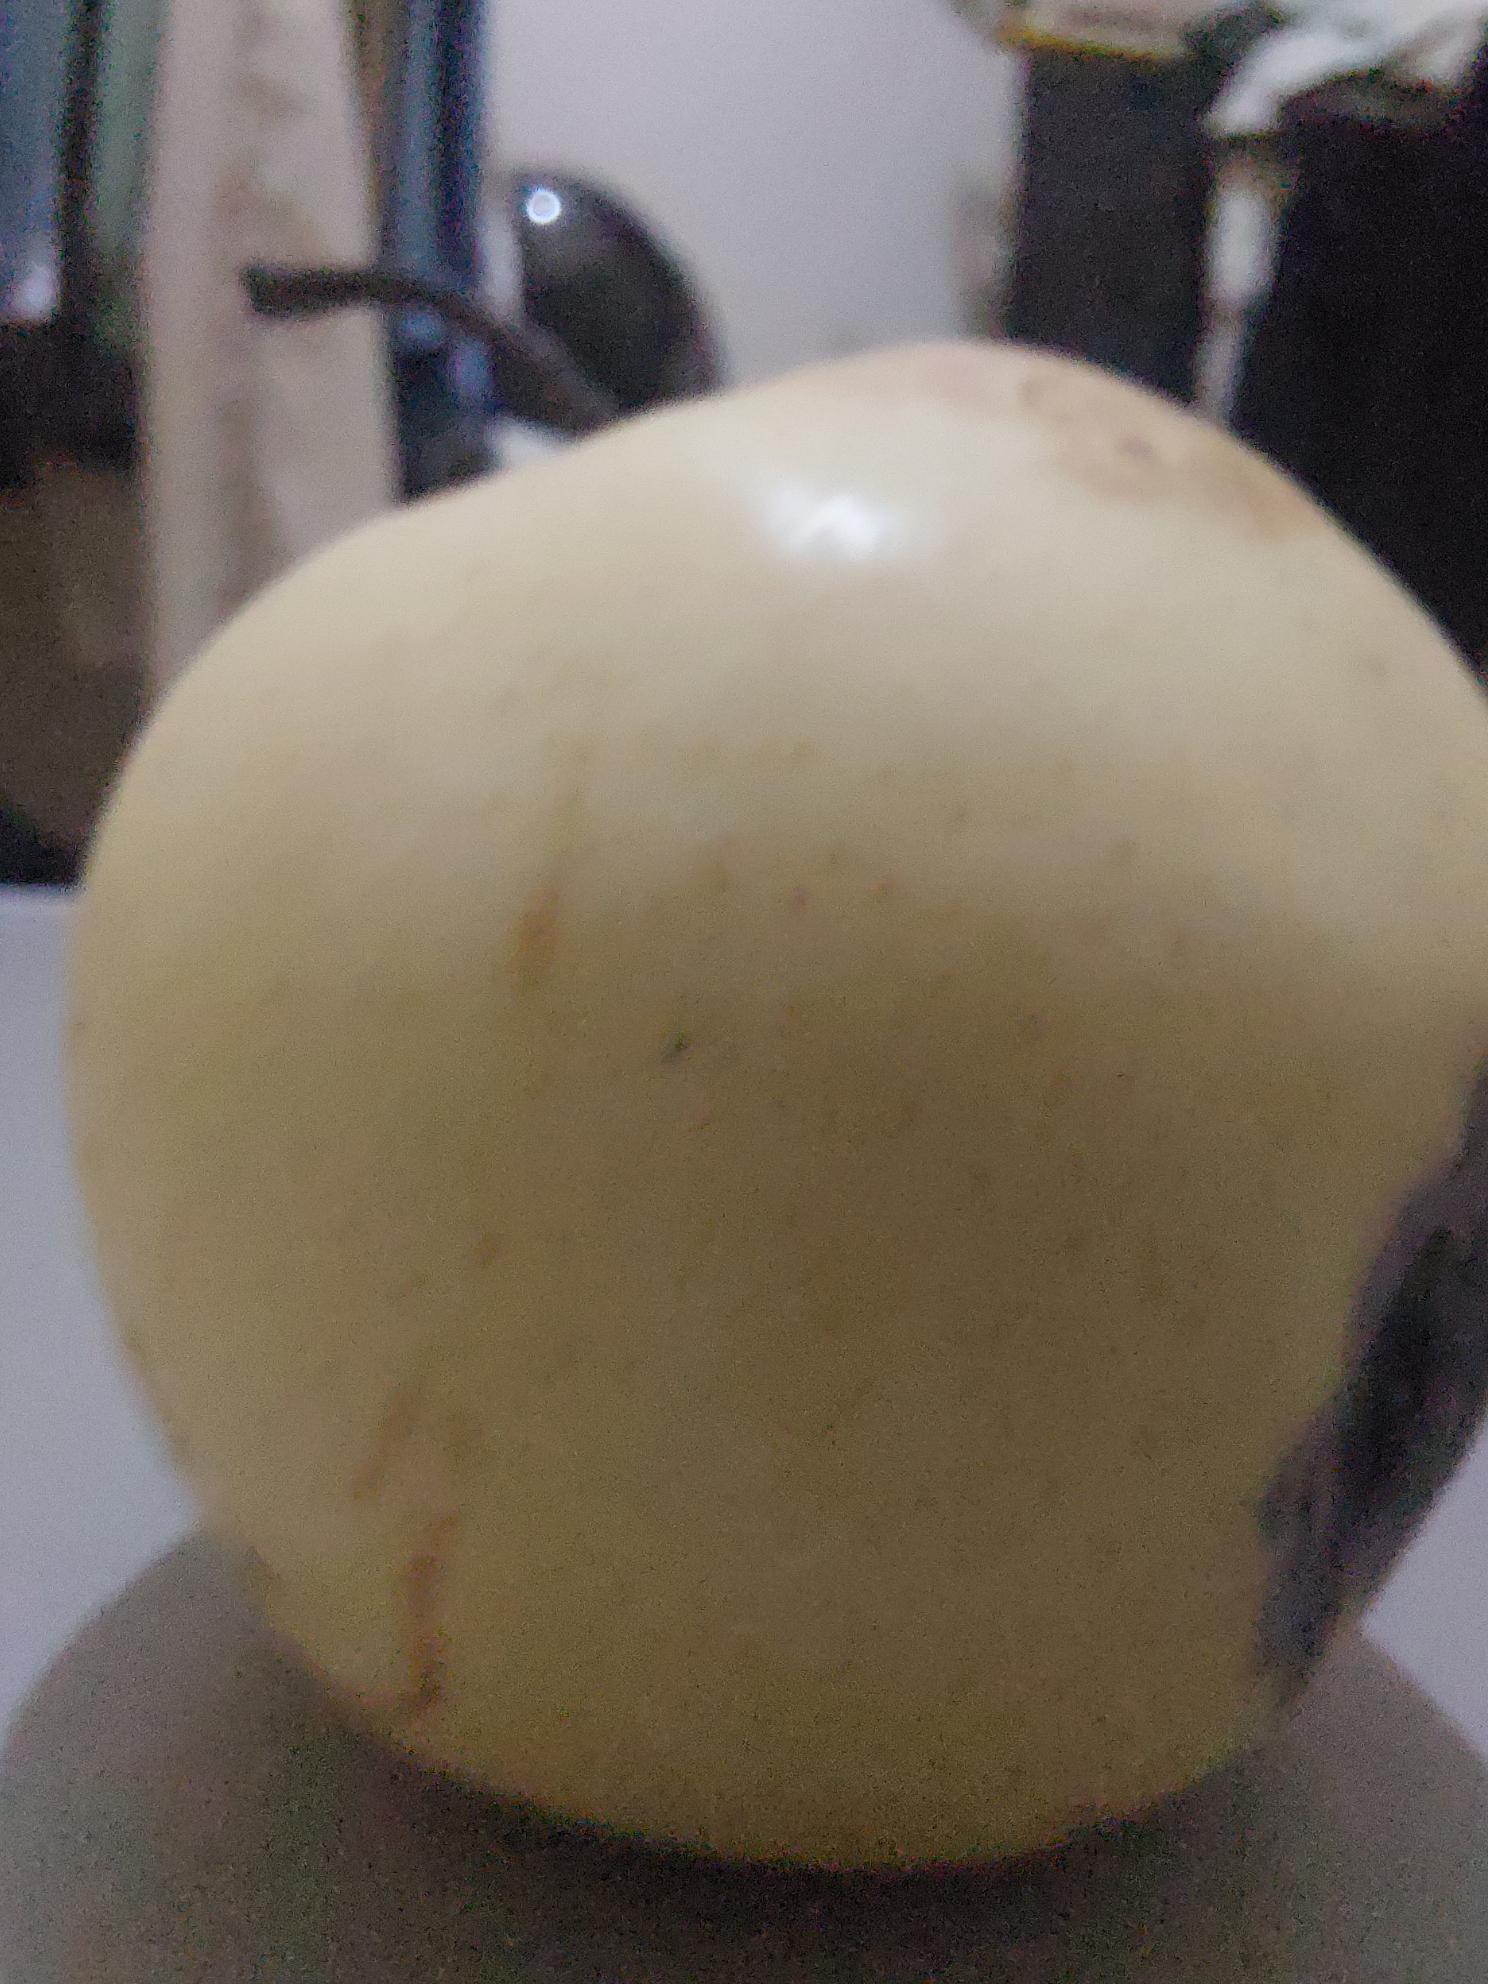Bad Pear: (59, 331, 1488, 1897)
